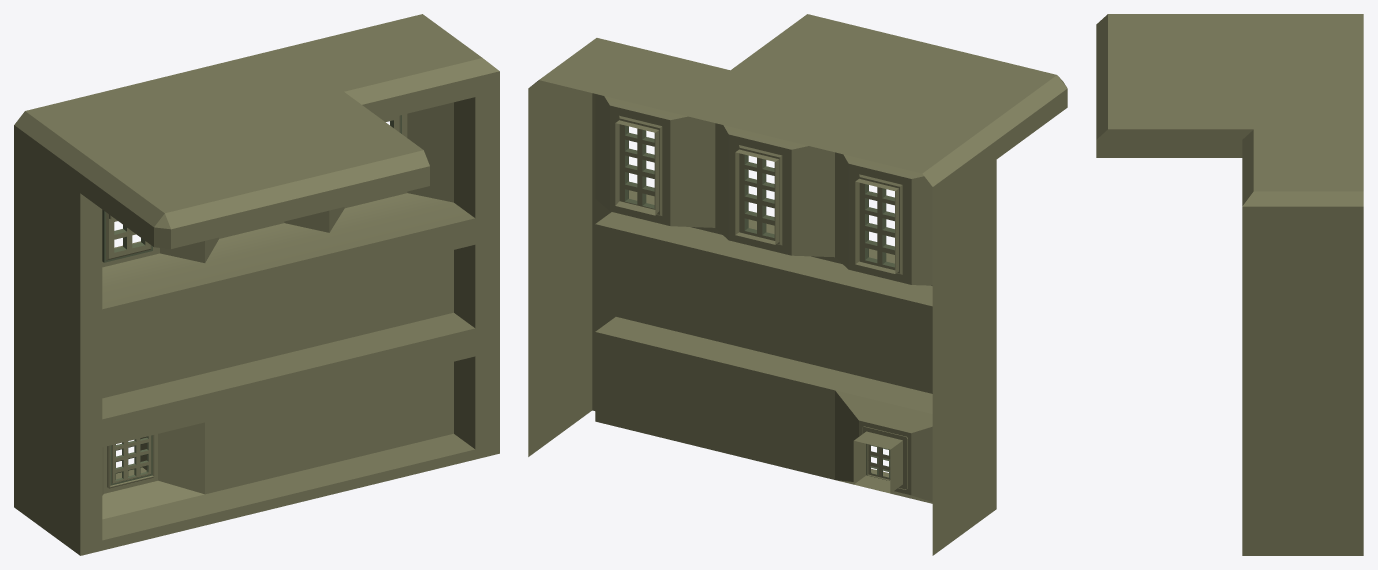
File: home_big_wall.fbx
3 renders of one model, left to right at view 1: azimuth 30°, elevation 25°; view 2: azimuth 150°, elevation 25°; view 3: azimuth 270°, elevation 25°, orthographic. The views are drawn at different scales.
Visible parts, largest first — view 1: home_big_wall; view 2: home_big_wall; view 3: home_big_wall.
Boxes of the visible parts, x1=… form: home_big_wall: x1=14, y1=14, x2=499, y2=555; home_big_wall: x1=528, y1=14, x2=1067, y2=555; home_big_wall: x1=1096, y1=14, x2=1363, y2=555.
Size of the model in its own units: 14.82 by 13.3 by 8.94.
